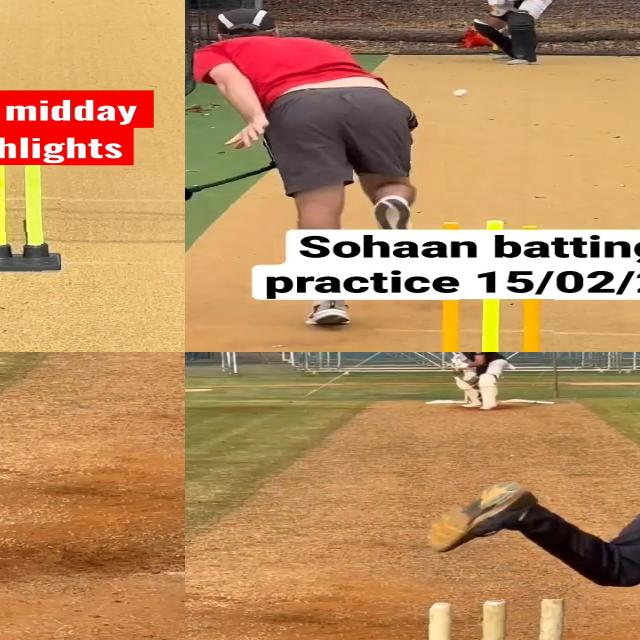Cricket ball: (453, 89, 469, 98)
Stumps: (424, 299, 554, 352), (0, 165, 61, 274), (425, 599, 579, 640)
